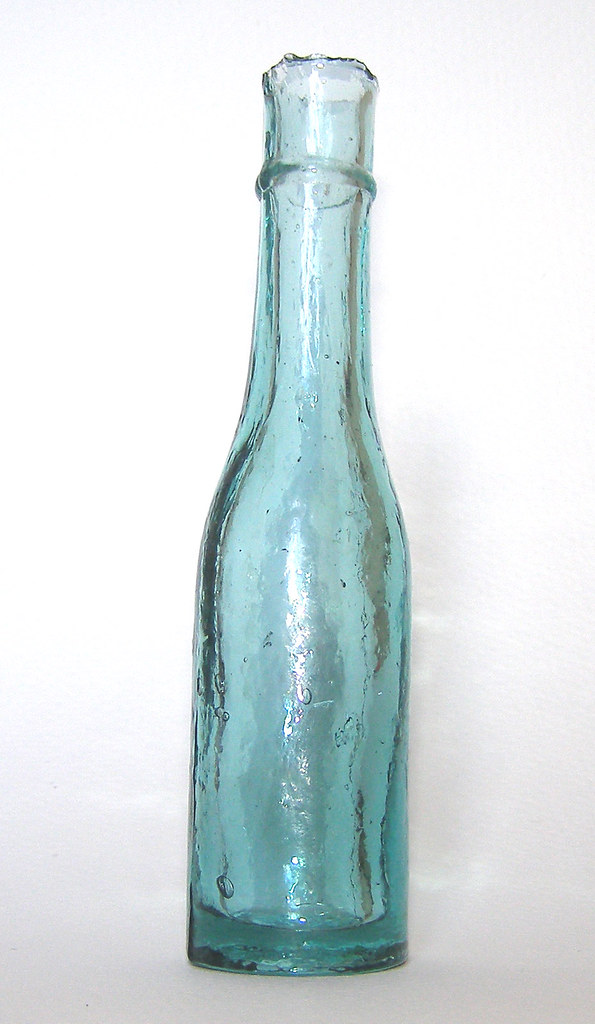bottle: (175, 4, 425, 1003)
